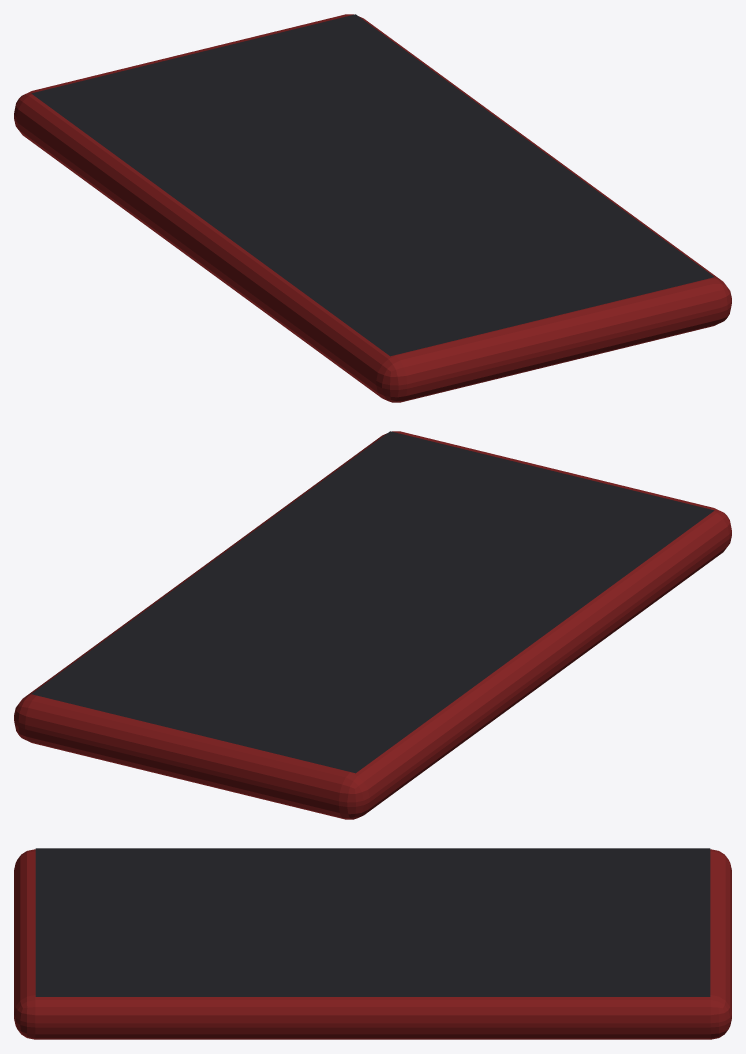
Rendered from poco-gen-2024-budget-2024.glb.
3 renders of one model, top to bottom at view 1: azimuth 30°, elevation 25°; view 2: azimuth 150°, elevation 25°; view 3: azimuth 270°, elevation 25°, orthographic. The views are drawn at different scales.
Visible parts, largest first — view 1: Phone_Screen, Phone_Body; view 2: Phone_Screen, Phone_Body; view 3: Phone_Screen, Phone_Body.
Part boxes in pixels (<box>): Phone_Screen: <box>31,14,714,356</box>; Phone_Body: <box>14,14,731,402</box>; Phone_Screen: <box>31,431,714,773</box>; Phone_Body: <box>14,431,731,819</box>; Phone_Screen: <box>35,848,710,996</box>; Phone_Body: <box>14,849,731,1039</box>.
Size of the model in its own units: 0.0748 by 0.0093 by 0.1403.
